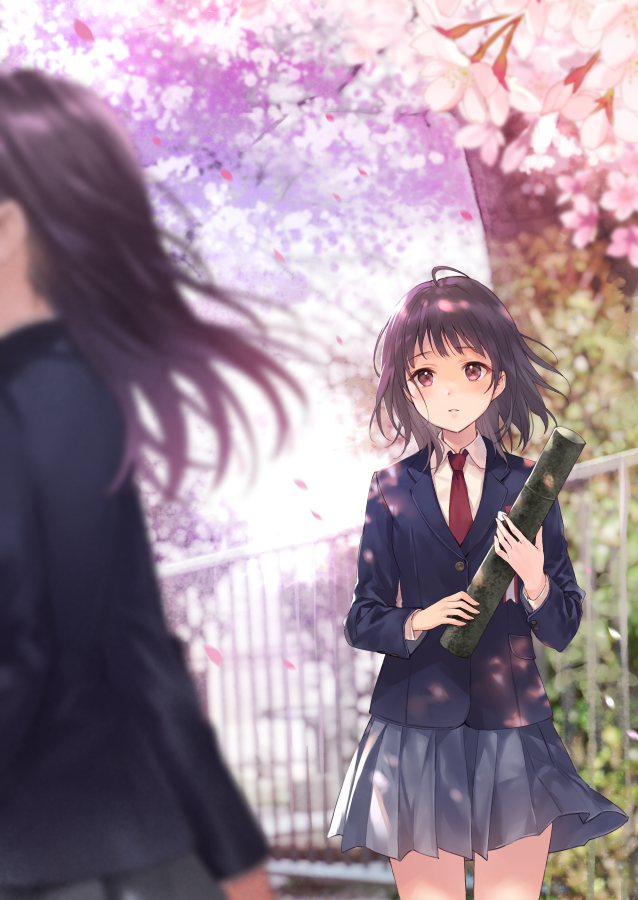纸片人正脸: (365, 259, 551, 446)
